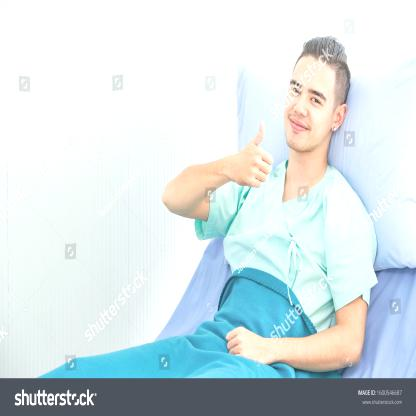Thumbs up: (234, 112, 271, 198)
